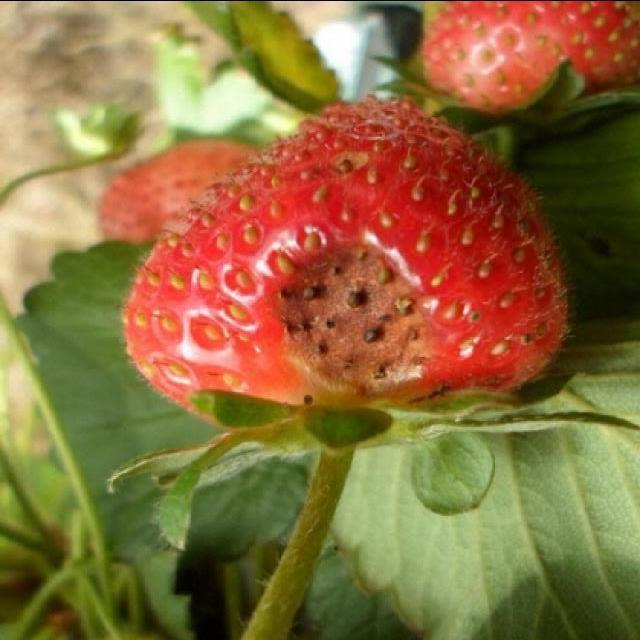Anthracnose Fruit Rot: (267, 223, 442, 404)
